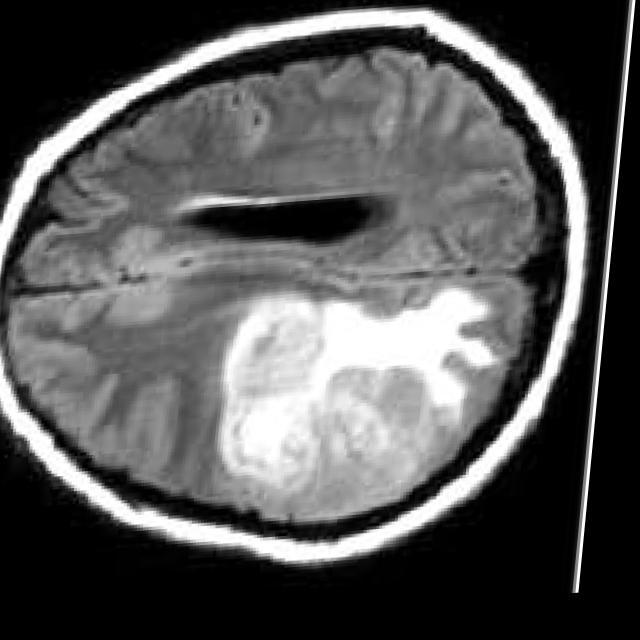Tumor: (231, 292, 494, 485)
